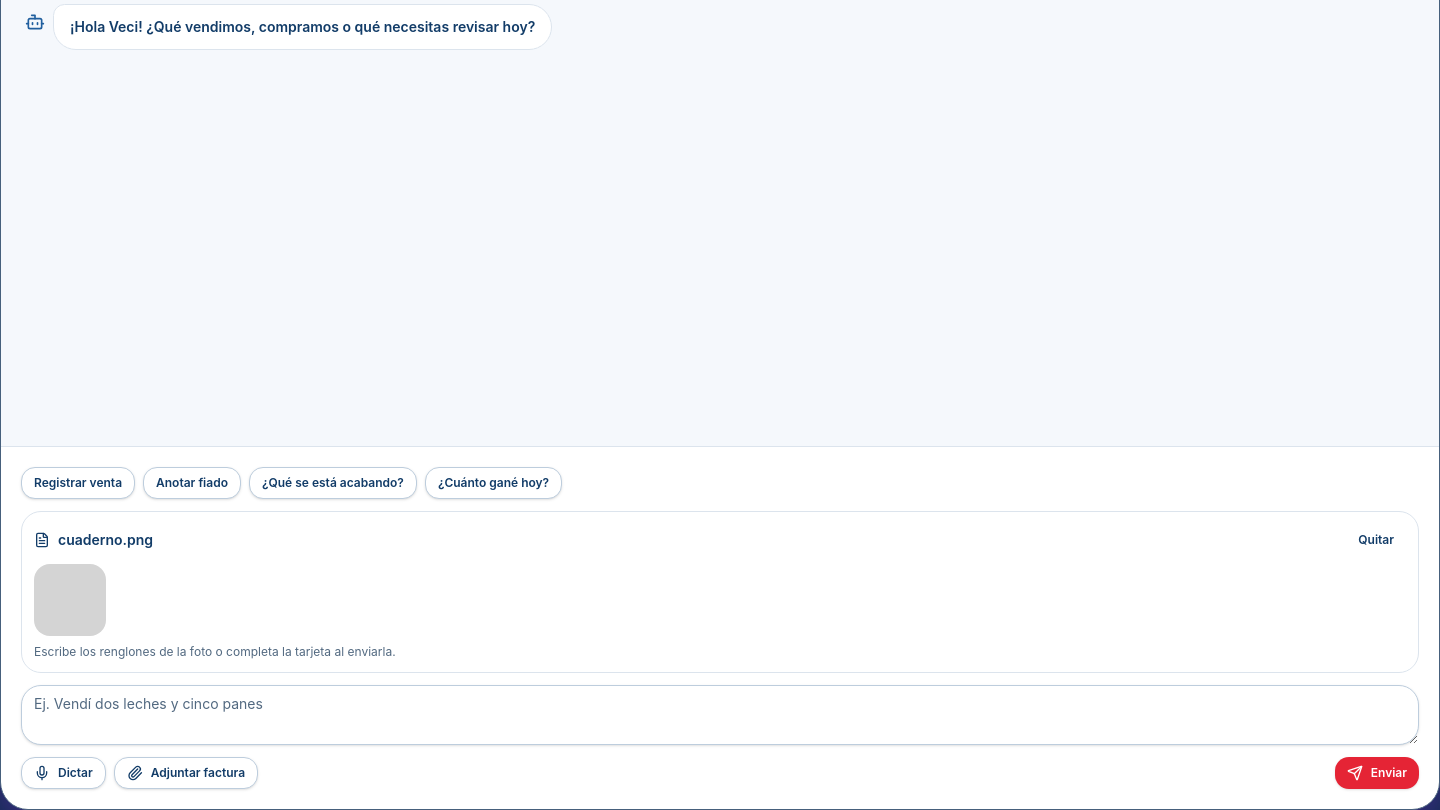
Test: muestra la foto y abre una compra editable sin enviar la imagen al servidor
This screenshot has width=1440, height=810.
Earlier steps of the test are not shown.
(page scrolled)
Step 1. Click the button "Enviar" → [1377, 773], box [1335,757,1419,789]
(page scrolled)
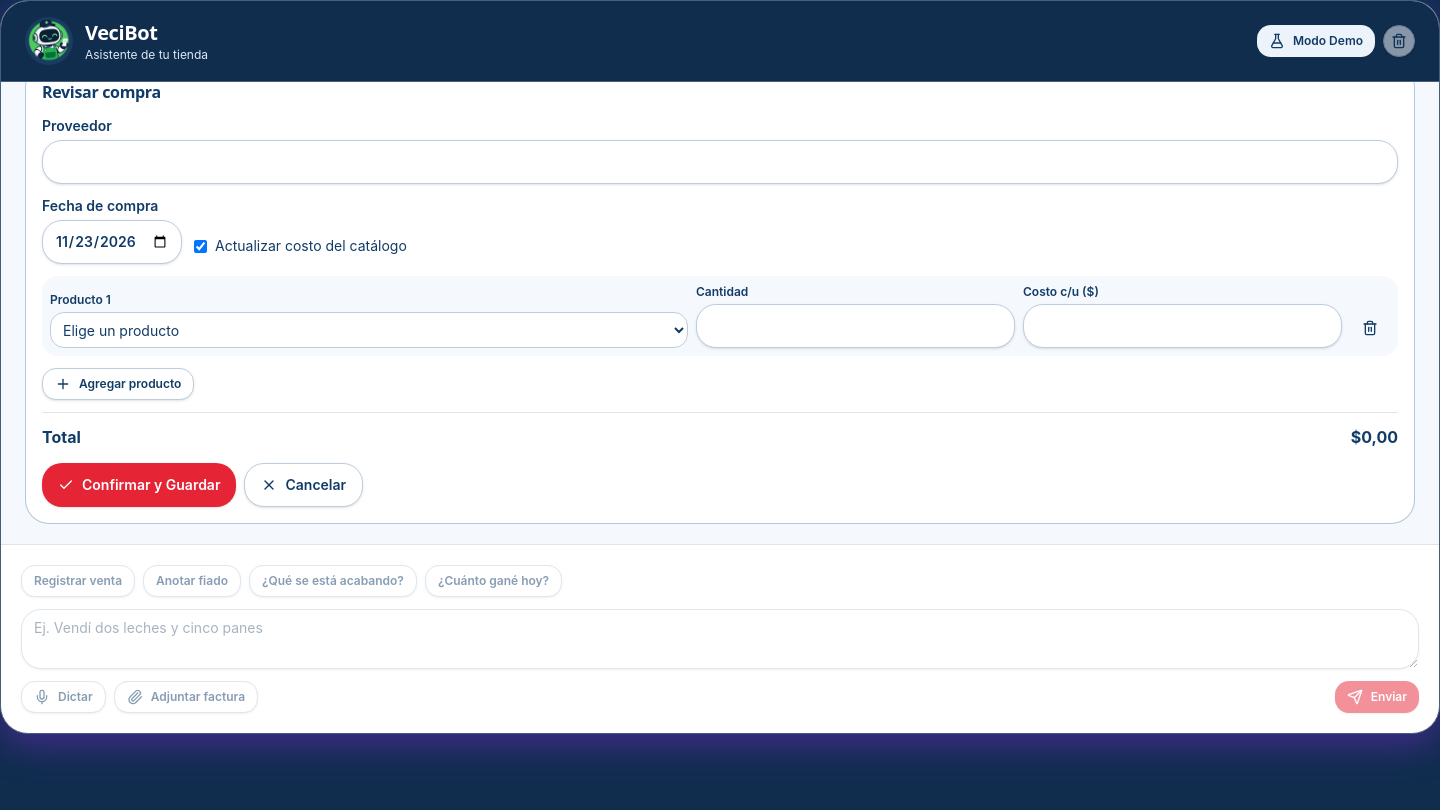
Now the heading "Revisar compra" is shown, box [42,82,161,103]
